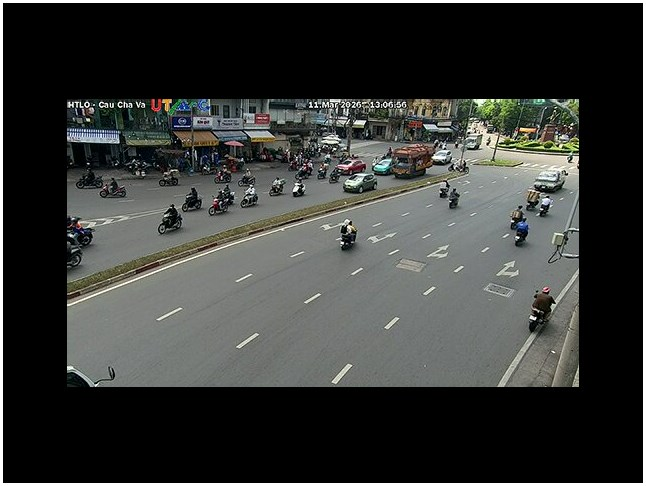bus: (391, 142, 435, 178)
car: (532, 168, 567, 192), (342, 172, 377, 193), (336, 158, 366, 176), (372, 157, 394, 175), (432, 148, 453, 164)
motorbike: (528, 294, 558, 334), (159, 204, 182, 233), (339, 219, 358, 249), (181, 186, 202, 211), (99, 180, 126, 198), (441, 184, 461, 208), (513, 219, 530, 246), (158, 170, 180, 186), (537, 196, 552, 217), (447, 187, 461, 209), (269, 176, 285, 195), (292, 182, 306, 197)
